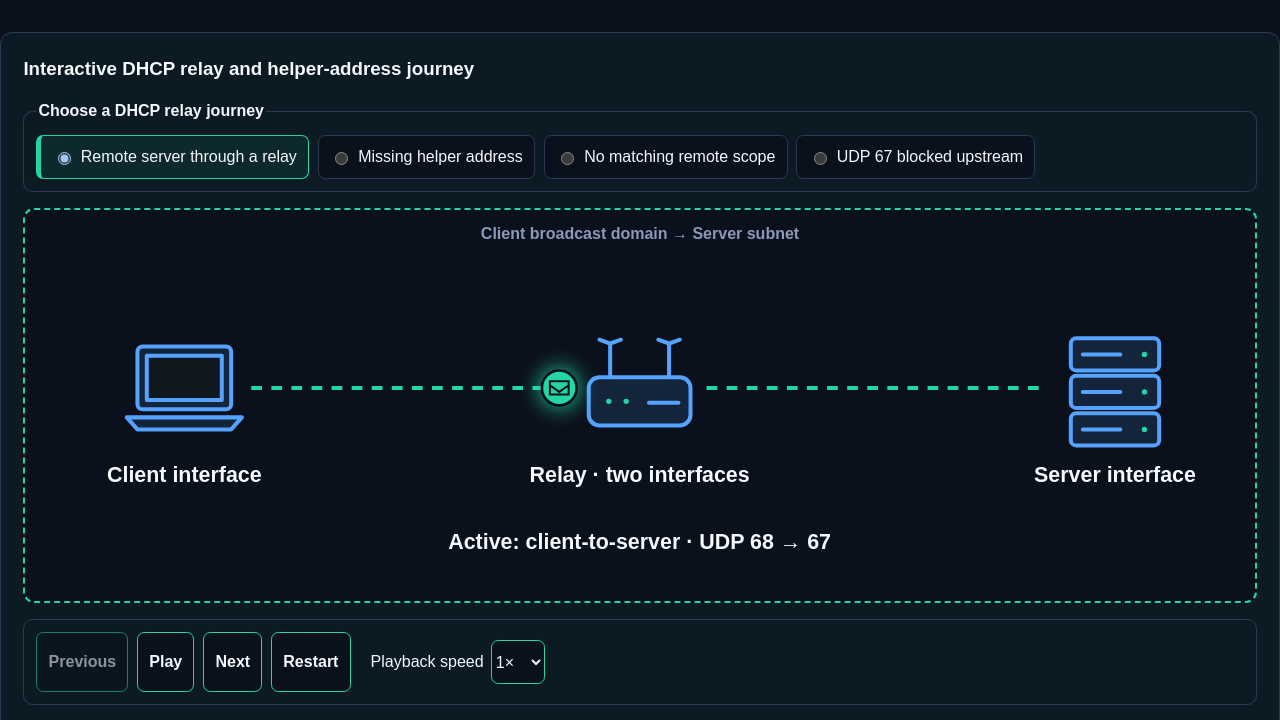
Test: DhcpRelayPlayer › explains a missing helper without inventing upstream traffic
The image size is (1280, 720).
Click the radio button labelled "Missing helper address": coordinates (342, 159) [335,152,348,166]
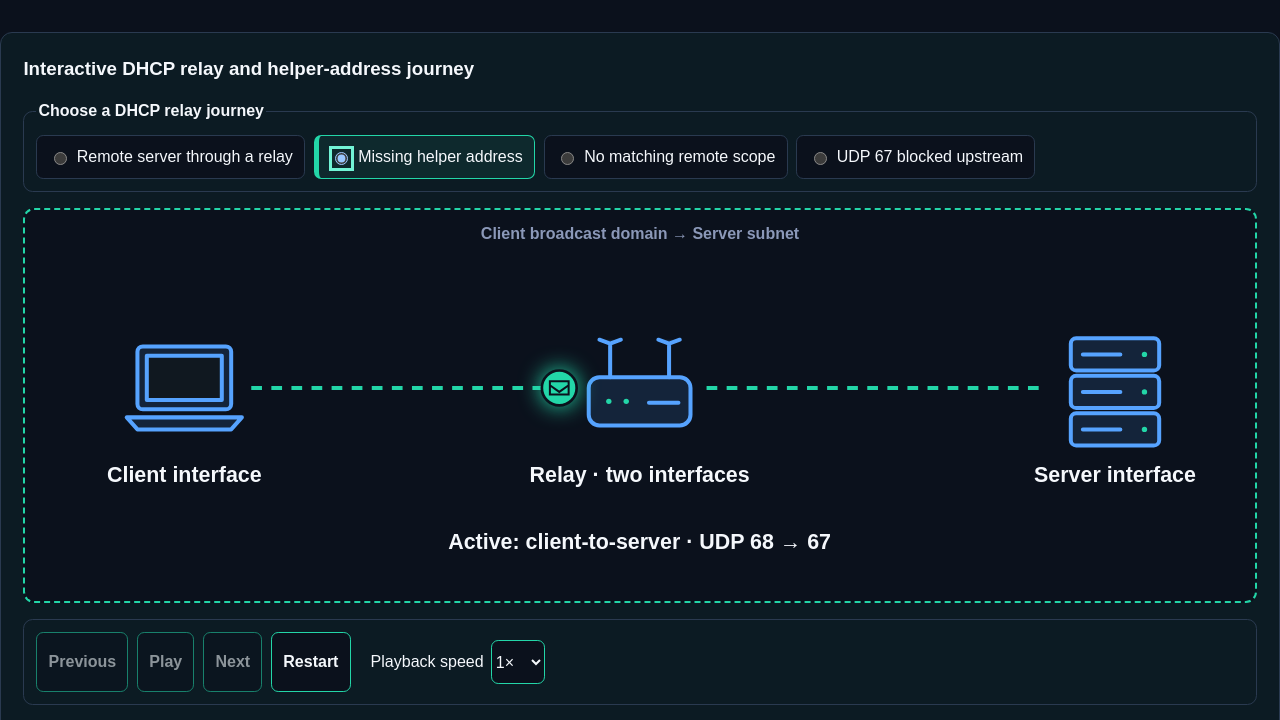
Expected: the button "Next" is disabled, [203,632,262,692]
